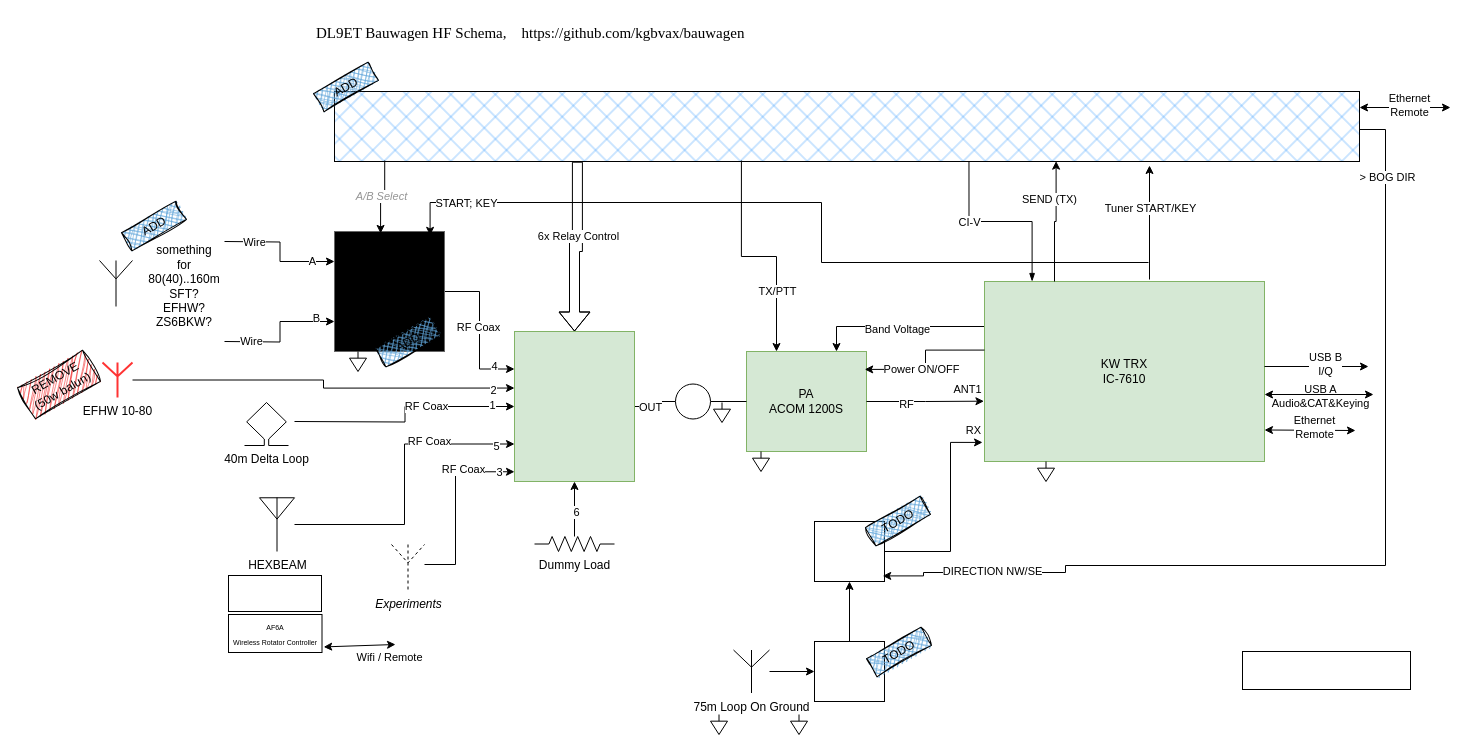
Image size: 1478x752. Some labels were removed from this diagram. Each missing label, with the box of its shape:
6:1 Ant Switch 2kW: (514, 330, 634, 482)
B-MAC the Bauwagen Master Antenna Controller: (334, 90, 1360, 162)
Bias-T: (814, 520, 884, 582)
Choke: (674, 383, 710, 419)
Control & Signals only Power & Audio not shown: (1242, 650, 1410, 690)
Preamp: (814, 640, 884, 702)
TUNER Stockcorner FS4s 1kW: (334, 230, 444, 352)
Yaesu G450DC Rotator: (228, 574, 322, 612)
